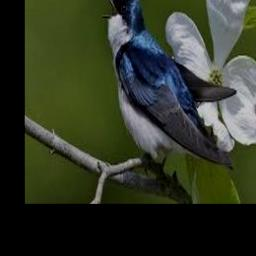Swallow: (101, 0, 236, 174)
